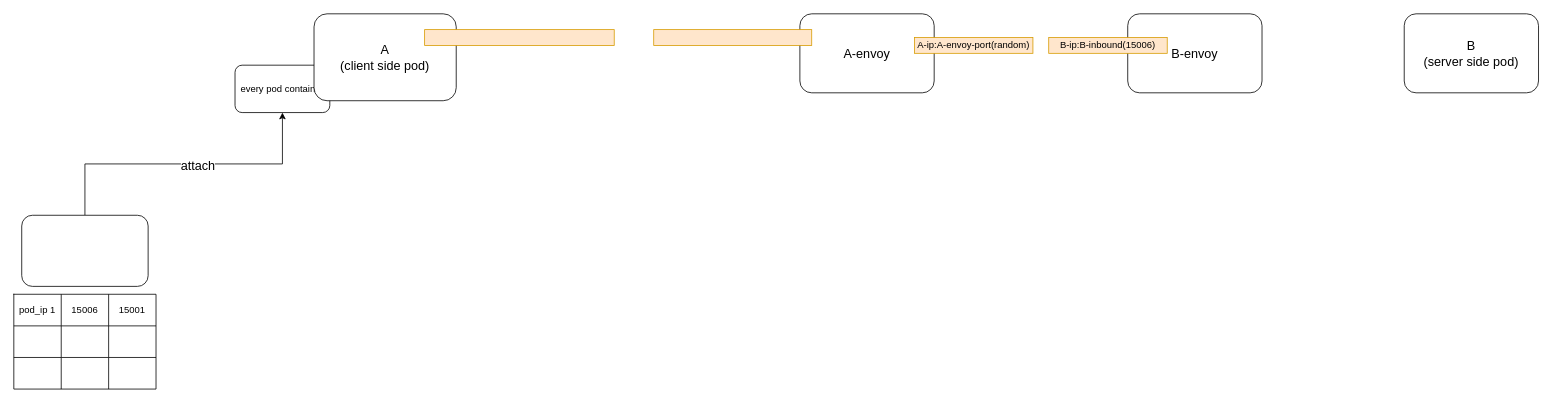
Some shapes in this 1552 by 403 pixel diagram are drawn without their labels. The centre of each missing label's shape, as x and y in pixels:
"127.0.0.1:A-outbound-port(15001)" belongs at pixel 732 37.
"A-ip(pod_ip):a-app-port(client_random)" belongs at pixel 519 37.
"map_proxy_envoy" belongs at pixel 84 250.
